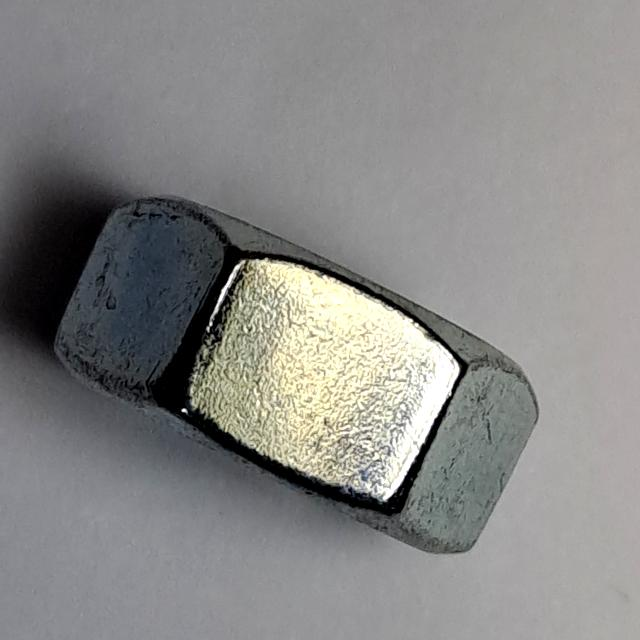Side_Excellent: (45, 184, 563, 569)
